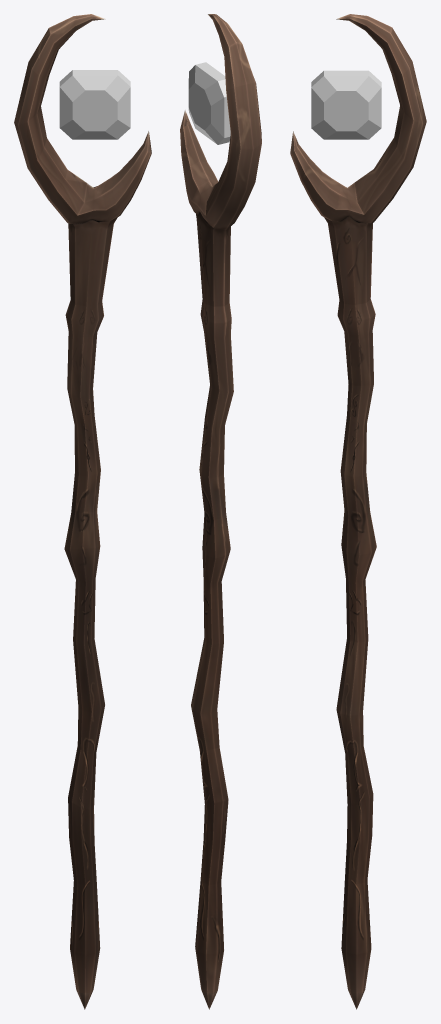
File: staff_mage_01.fbx
The picture shows the model from 3 angles, left to right: view 1: azimuth 90°, elevation 25°; view 2: azimuth 210°, elevation 25°; view 3: azimuth 270°, elevation 25°; orthographic projection.
Parts seen in each view (by area): view 1: Staff_01, Pearl1; view 2: Staff_01, Pearl1; view 3: Staff_01, Pearl1.
Part boxes in pixels (box(x1,y1,x2,y2)): Staff_01: box(14, 14, 151, 1009); Pearl1: box(59, 70, 130, 139); Staff_01: box(180, 14, 261, 1009); Pearl1: box(188, 62, 230, 144); Staff_01: box(290, 14, 426, 1009); Pearl1: box(311, 70, 381, 139).
Size of the model in its own units: 0.0679 by 1.69 by 0.2113.
